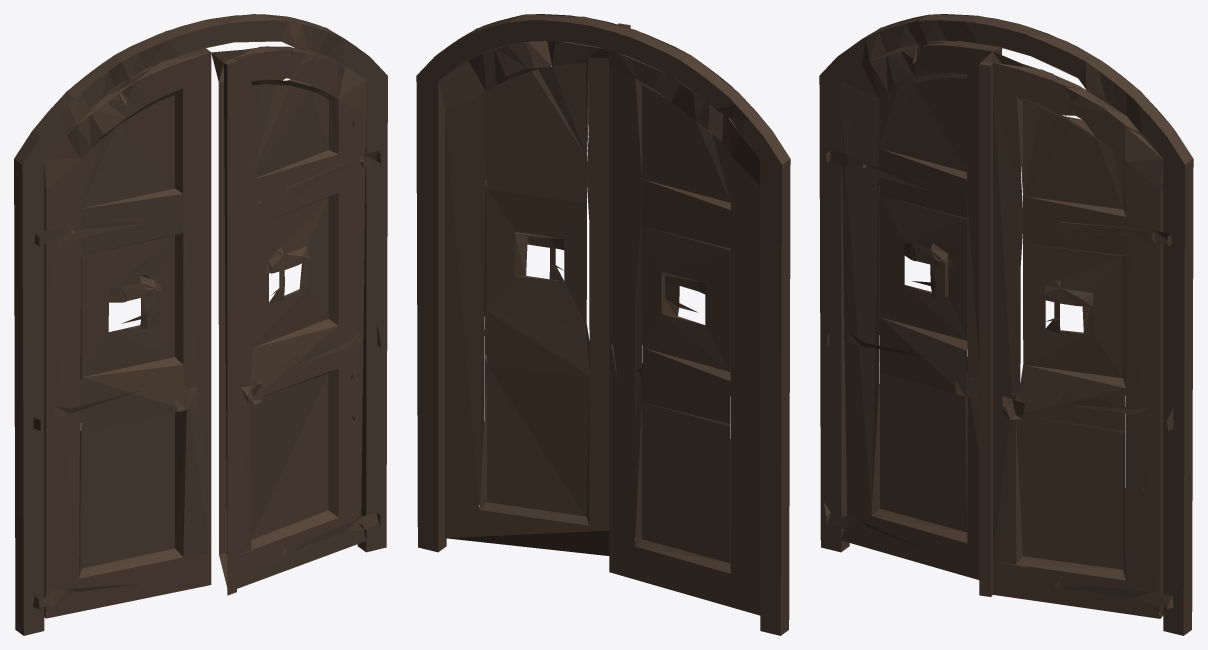
Rendered from castle-door-lod1.glb.
3 views of the same model, side by side, from view 1: azimuth 30°, elevation 25°; view 2: azimuth 150°, elevation 25°; view 3: azimuth 330°, elevation 25° (orthographic).
Size of the model in its own units: 2.01 by 2.96 by 0.2964.
